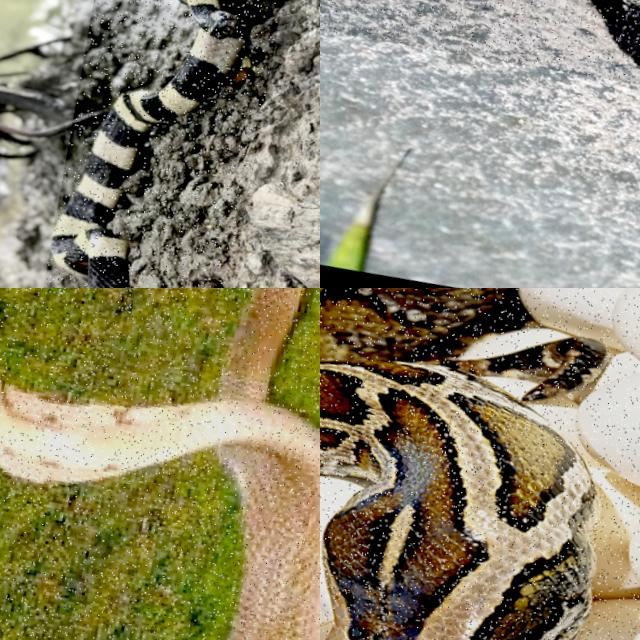Bungarus candidus: (590, 0, 639, 65)
Bungarus fasciatus: (51, 0, 253, 287)
Naja kaouthia: (0, 288, 319, 639)
Python bivittatus: (320, 288, 608, 639)
